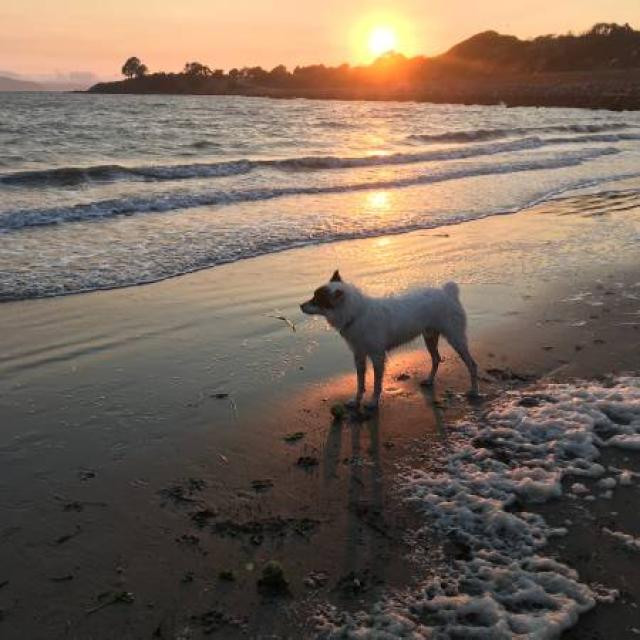dog: (287, 251, 486, 413)
